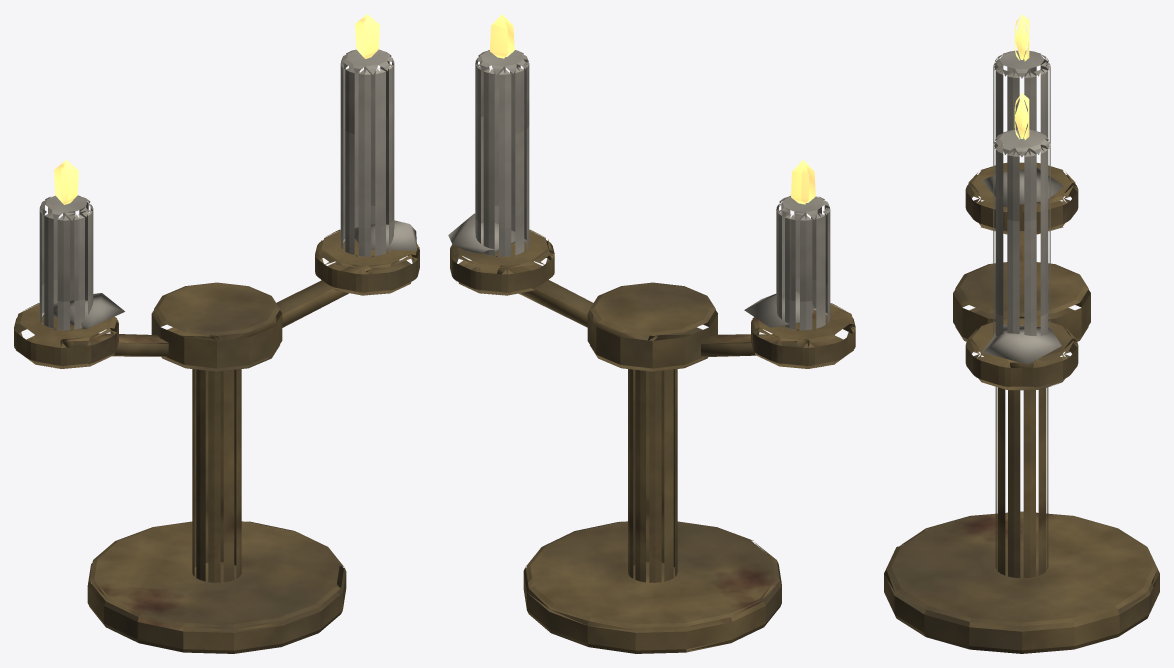
The model's file is U04_candlestick_v2.glb.
3 views of the same model, side by side, from view 1: azimuth 30°, elevation 25°; view 2: azimuth 150°, elevation 25°; view 3: azimuth 270°, elevation 25° (orthographic). The views are drawn at different scales.
Parts seen in each view (by area): view 1: U04_candlestick_v2; view 2: U04_candlestick_v2; view 3: U04_candlestick_v2.
Boxes of the visible parts, x1,y1,x2,y2 form: U04_candlestick_v2: (14, 14, 419, 653); U04_candlestick_v2: (448, 14, 855, 653); U04_candlestick_v2: (884, 14, 1159, 653).
Size of the model in its own units: 0.2262 by 0.3 by 0.1286.
Materials: 3 (3 with a texture image).
